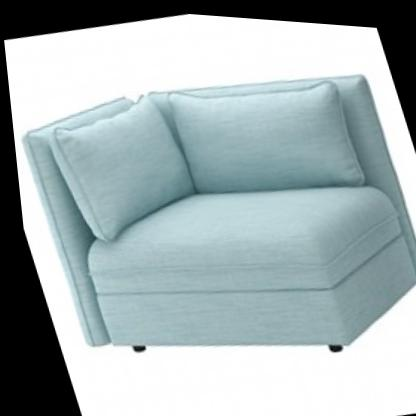Sofa: (1, 15, 416, 412)
